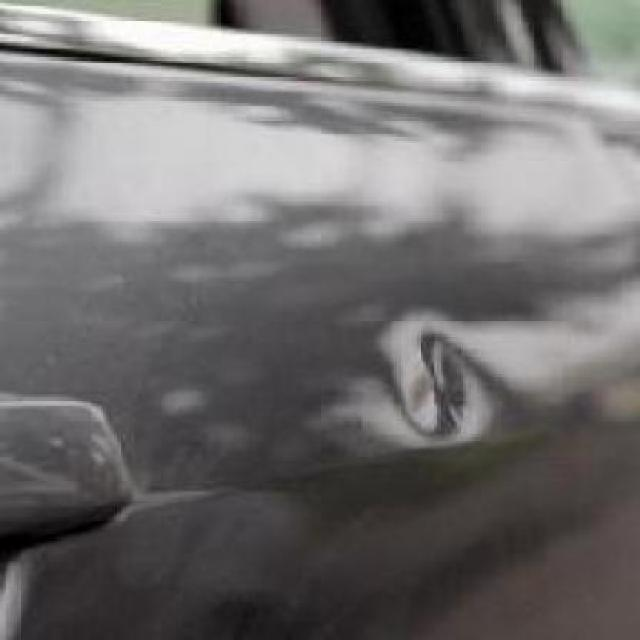dent-or-scratch: (364, 270, 532, 476)
